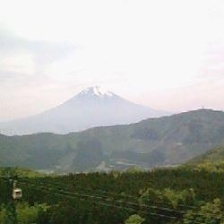neutral: (3, 86, 221, 224)
